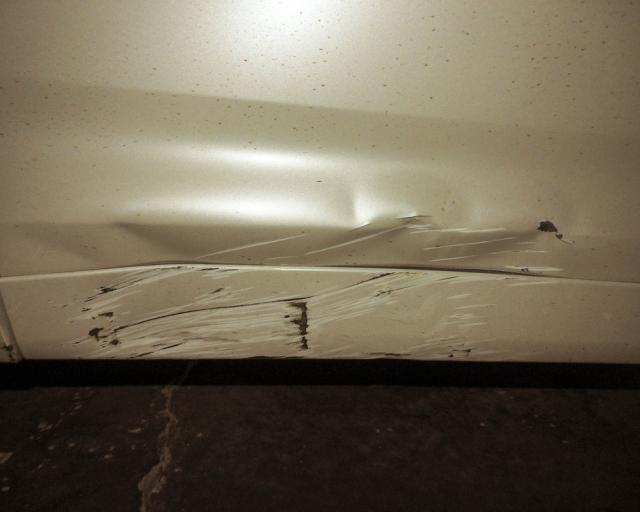dent: (331, 163, 481, 233)
scratch: (63, 213, 575, 364)
